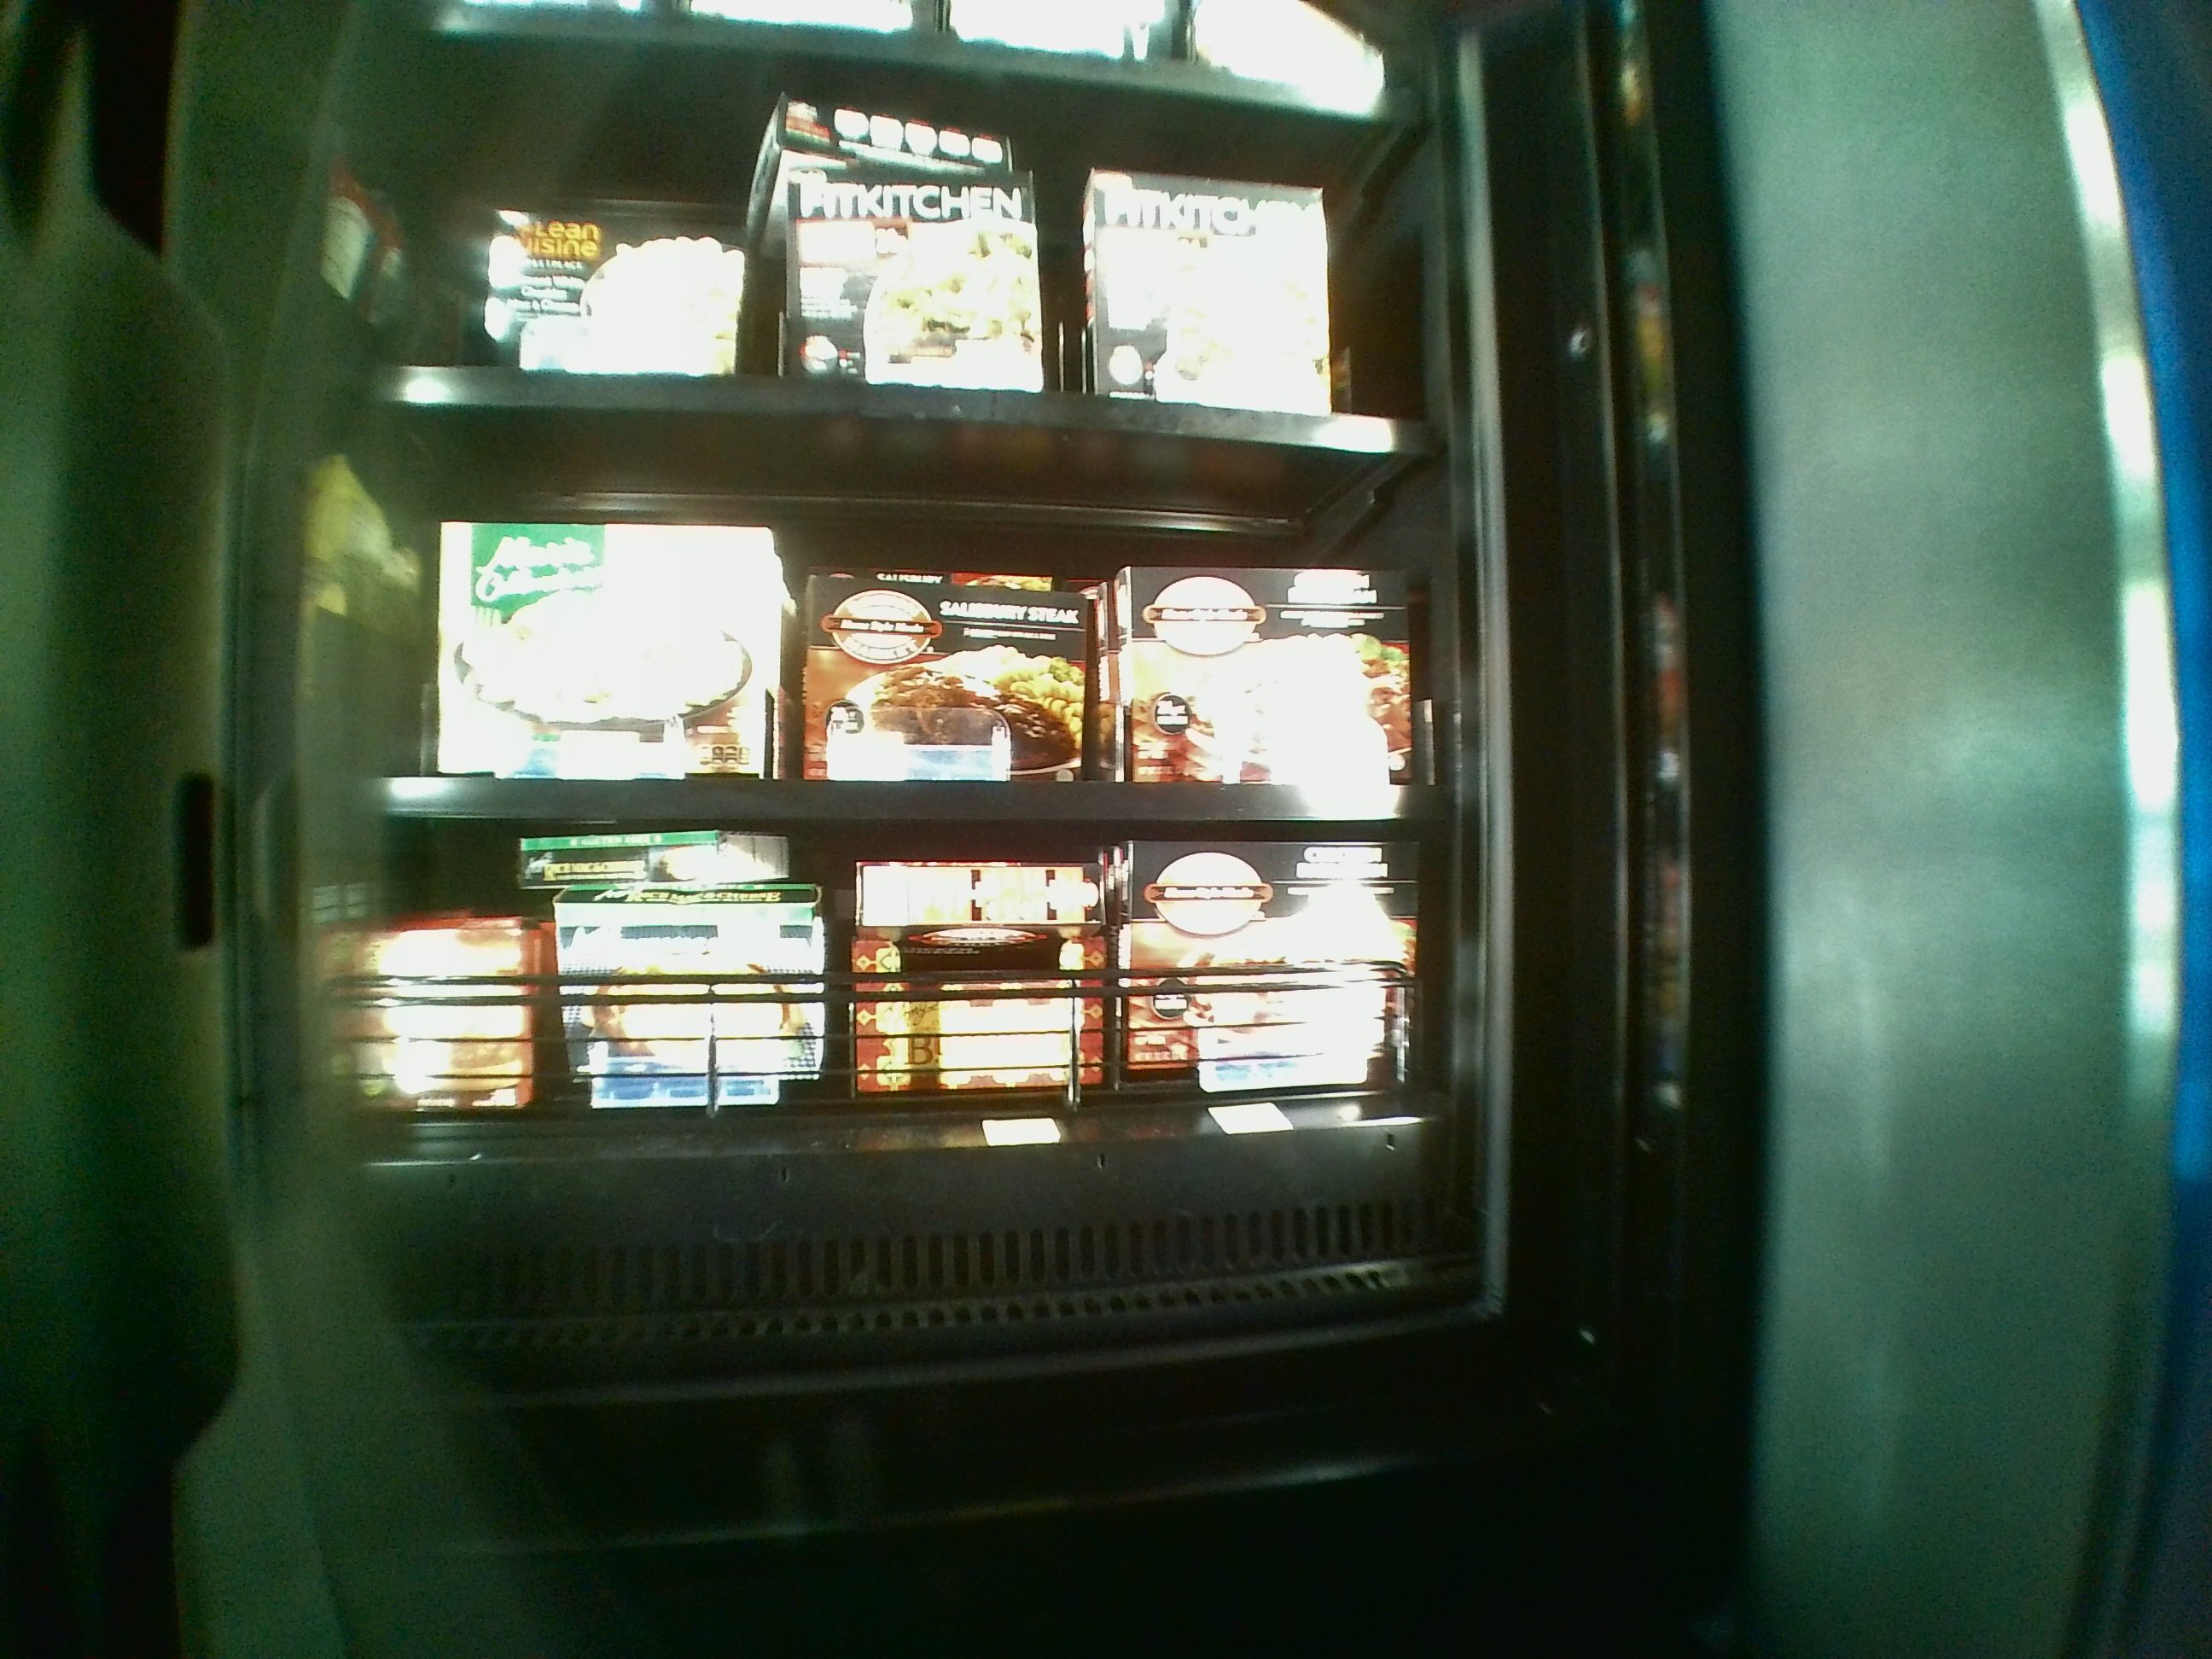shelf: (366, 441, 1440, 823), (361, 33, 1420, 413)
